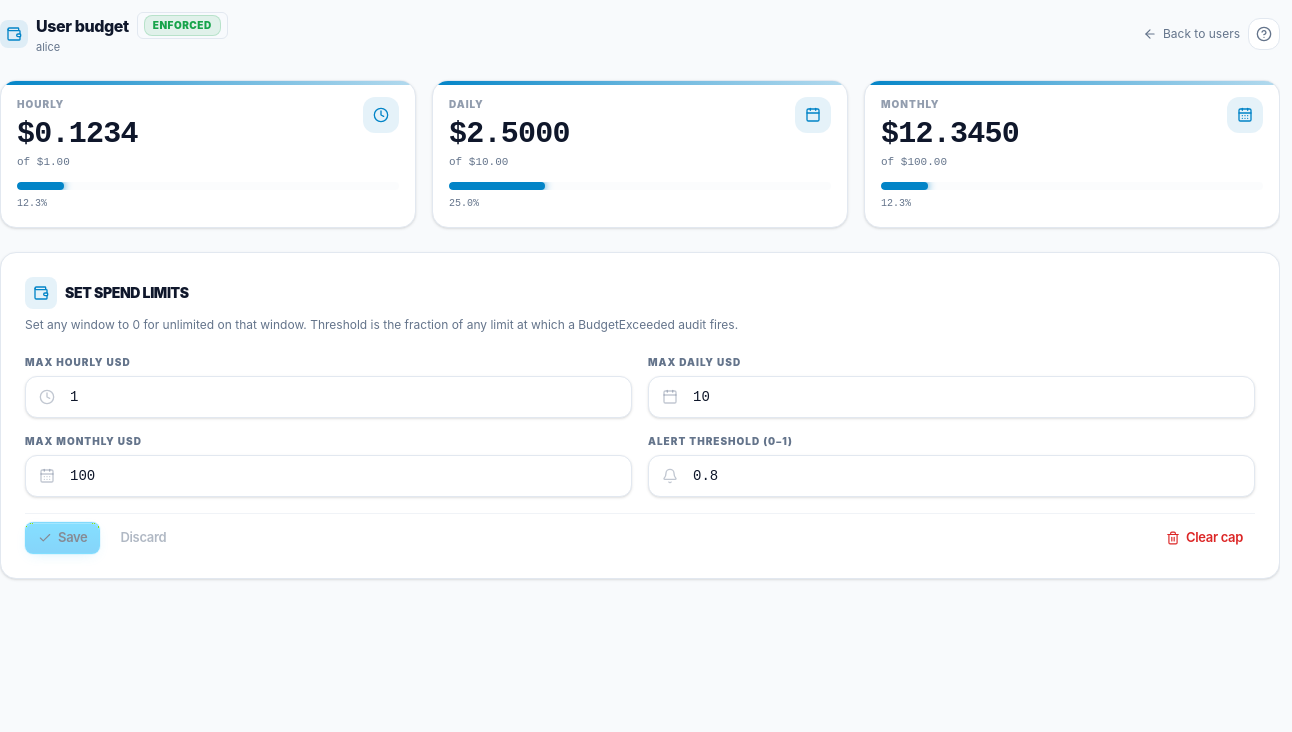
Test: UserBudgetPage › rejects an alert_threshold above 1 without firing the mutation
This screenshot has width=1292, height=732.
Replace the text in the number field labelled "Alert threshold (0–1)" with "1.5". click: (952, 476)
box: top-left (648, 454), bottom-right (1255, 496)
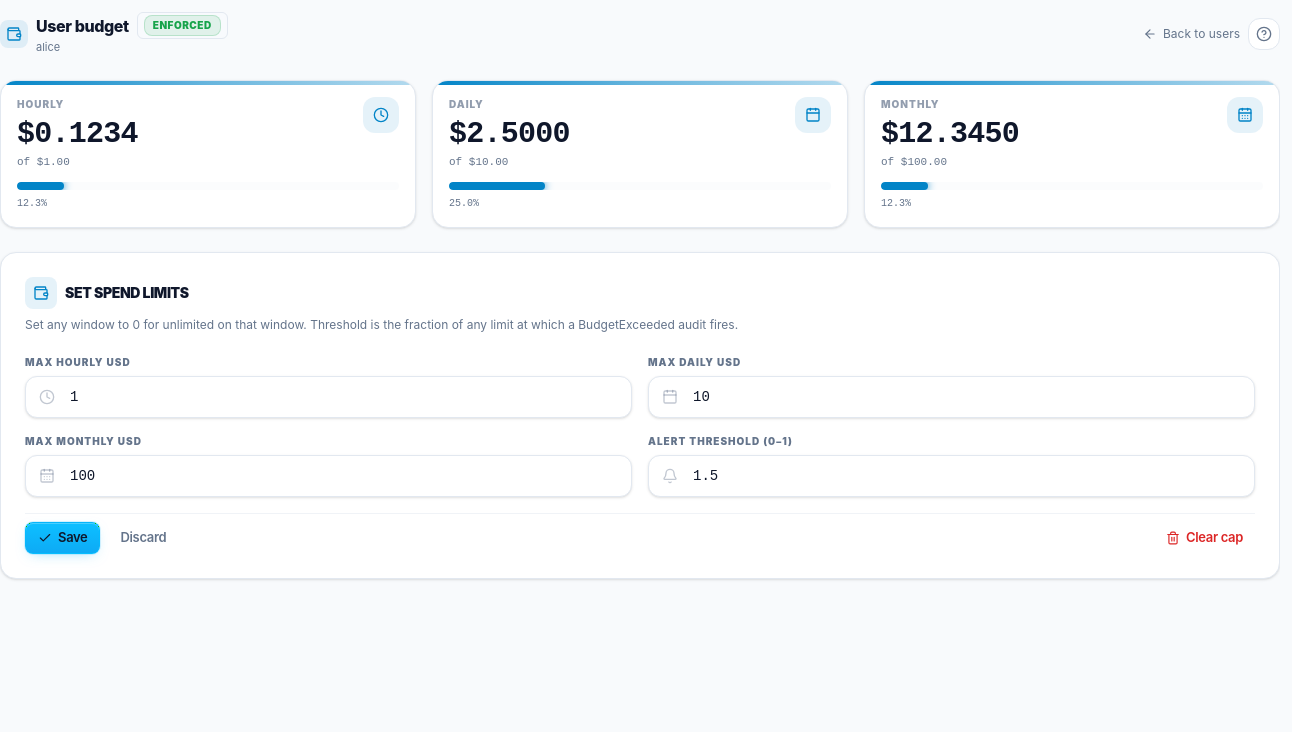
Click the button "Save". click: click(63, 538)
box: top-left (25, 522), bottom-right (100, 554)
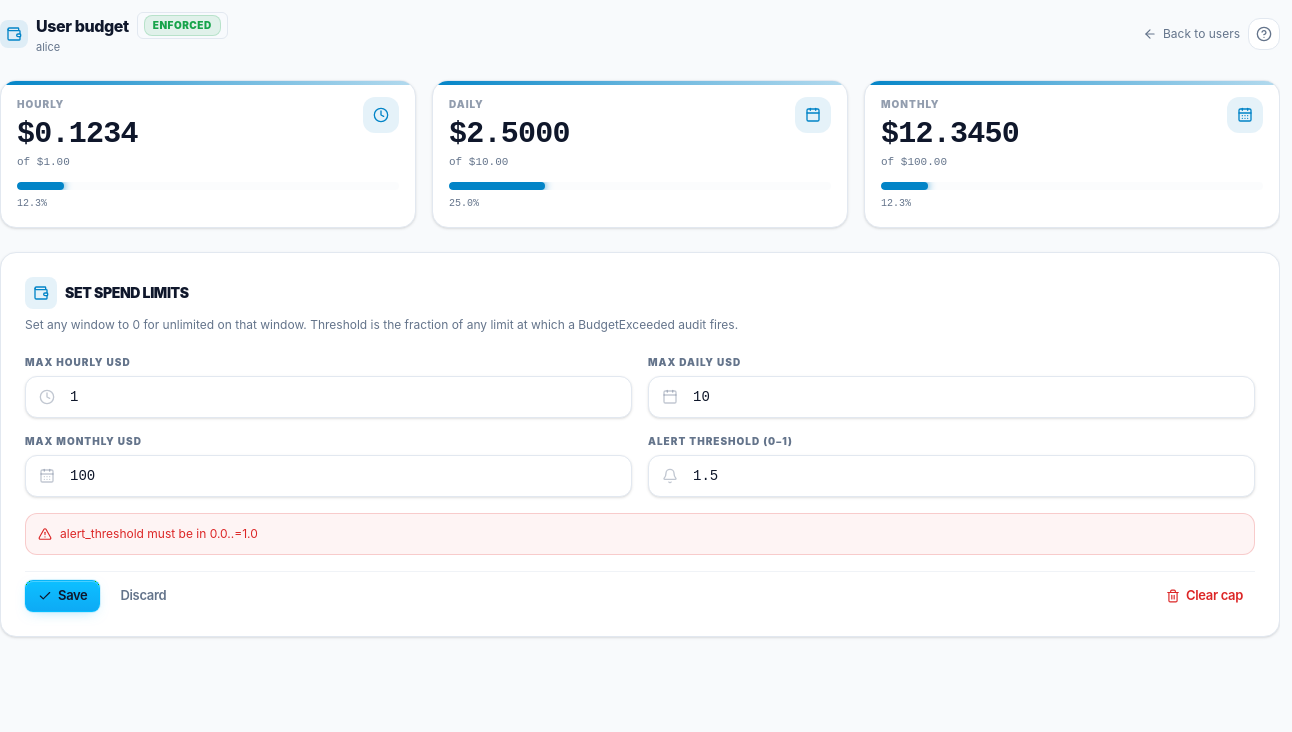
Expected: the text "alert_threshold must be in 0.0..=1.0" is shown, top-left (25, 512), bottom-right (1255, 554)
